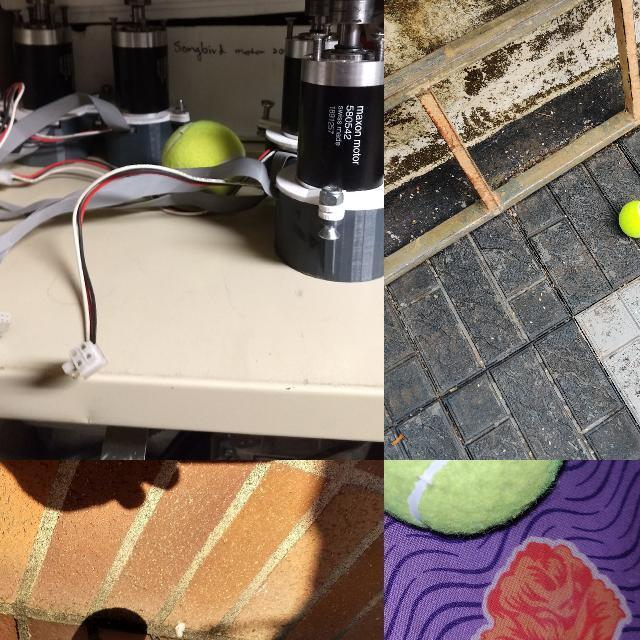tennis-ball: (384, 460, 576, 540), (161, 120, 245, 157), (618, 200, 639, 239)
